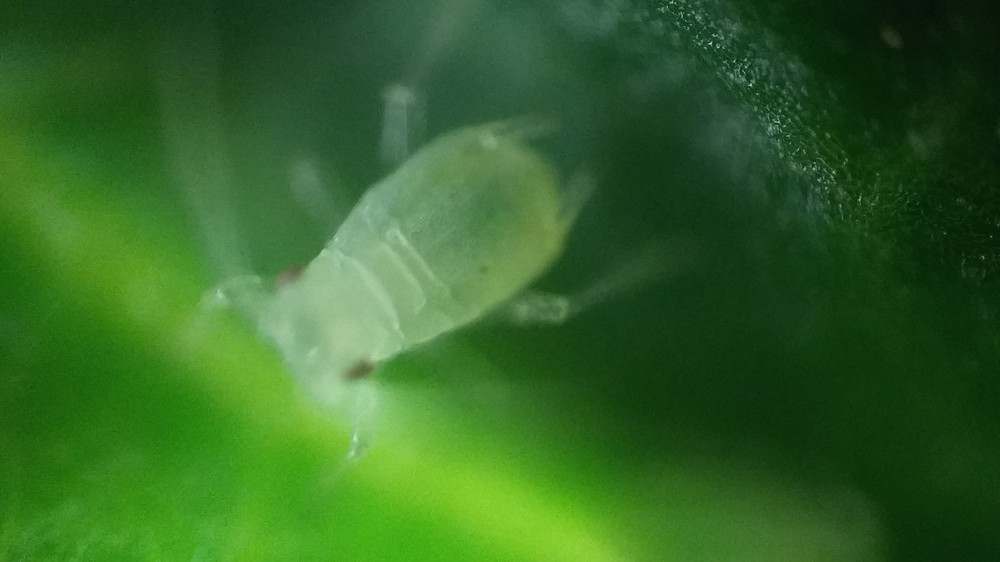Pulgon: (164, 41, 729, 463)
